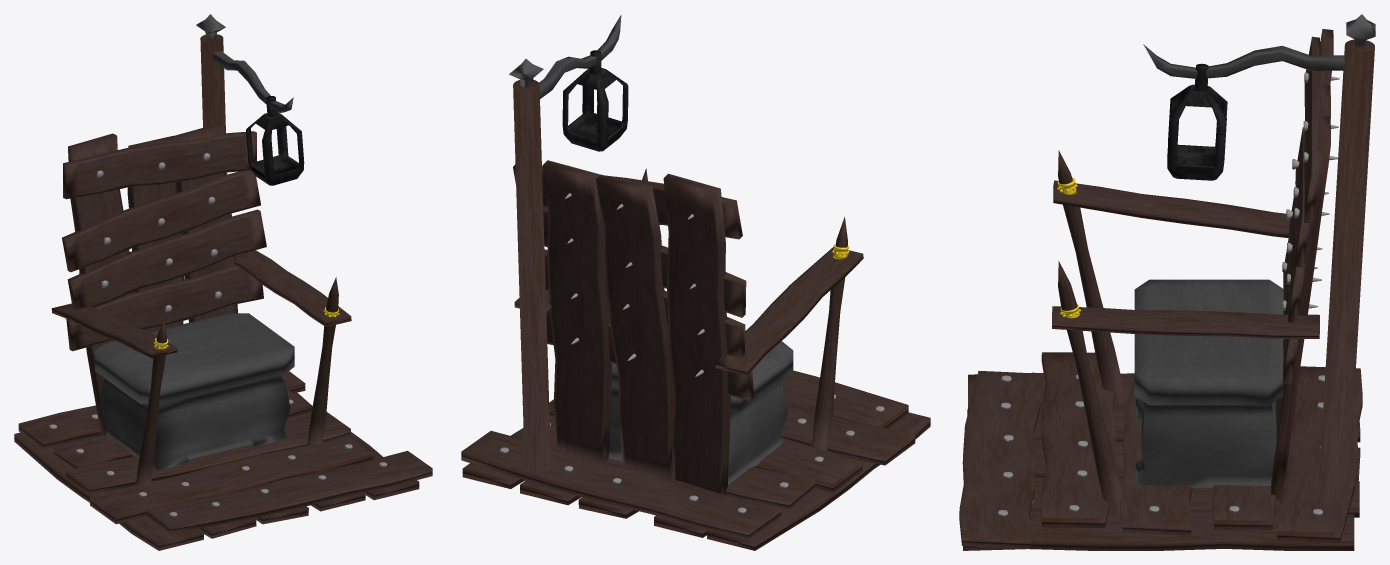
Rendered from Throne.fbx.
3 renders of one model, left to right at view 1: azimuth 30°, elevation 25°; view 2: azimuth 150°, elevation 25°; view 3: azimuth 270°, elevation 25°, orthographic. The views are drawn at different scales.
Parts seen in each view (by area): view 1: Throne, Lantern; view 2: Throne, Lantern; view 3: Throne, Lantern.
Boxes of the visible parts, x1,y1,x2,y2 form: Throne: (14, 14, 432, 550); Lantern: (246, 96, 304, 185); Throne: (461, 15, 930, 550); Lantern: (562, 50, 628, 151); Throne: (959, 14, 1375, 550); Lantern: (1167, 63, 1227, 180).
Bounding box in the file's own units: 1193 × 1519 × 1133.
